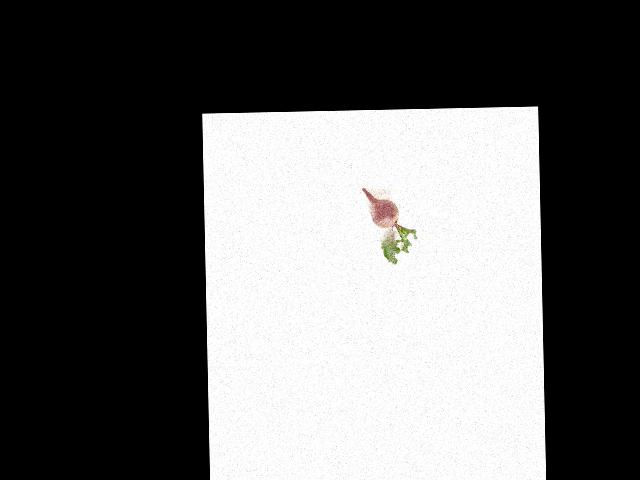beet: (362, 187, 417, 265)
